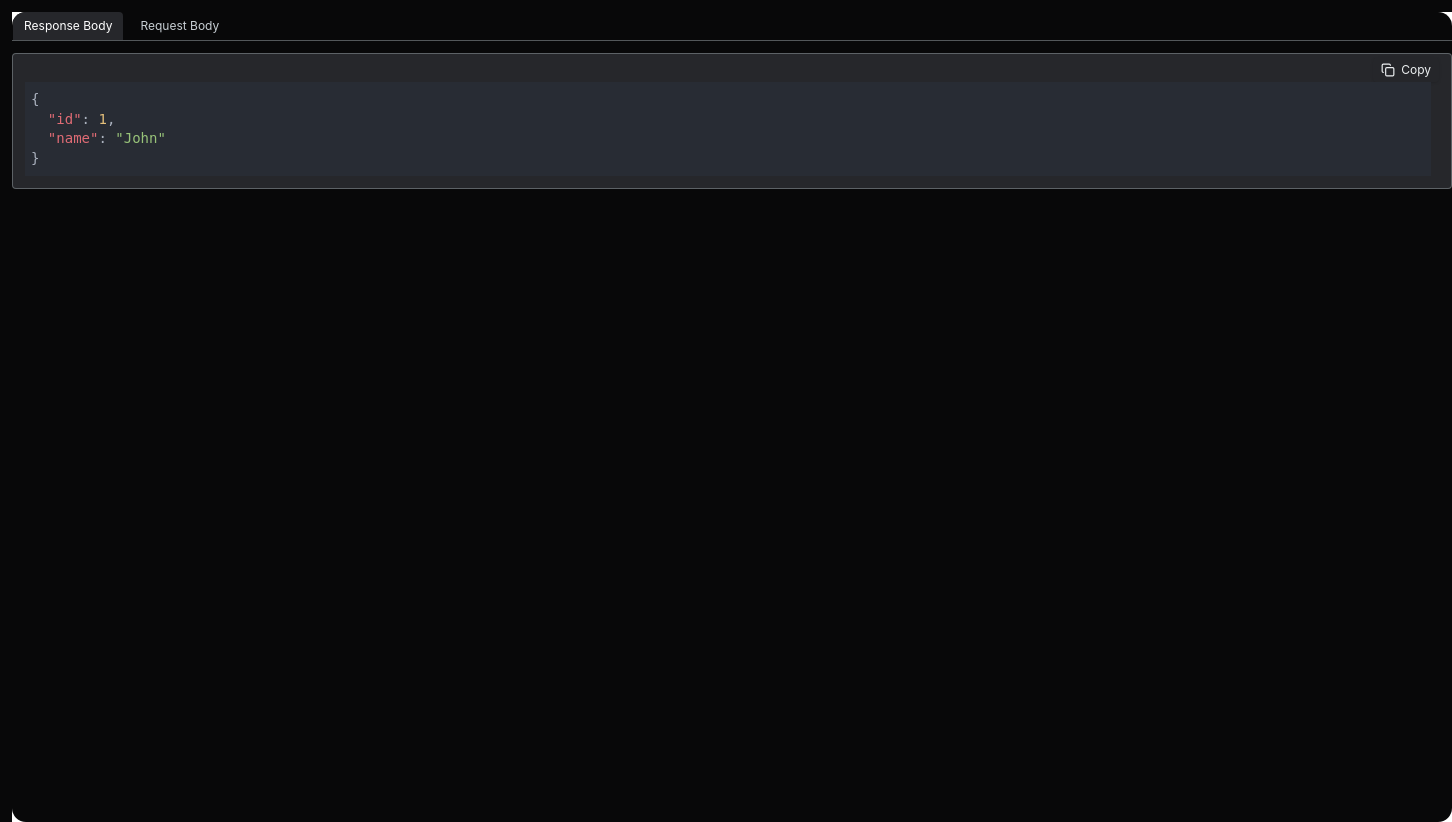
Test: ResponsePanel › shows empty state for null request body
Click the tab "Request Body" at (180, 26), box [128,12,231,40]
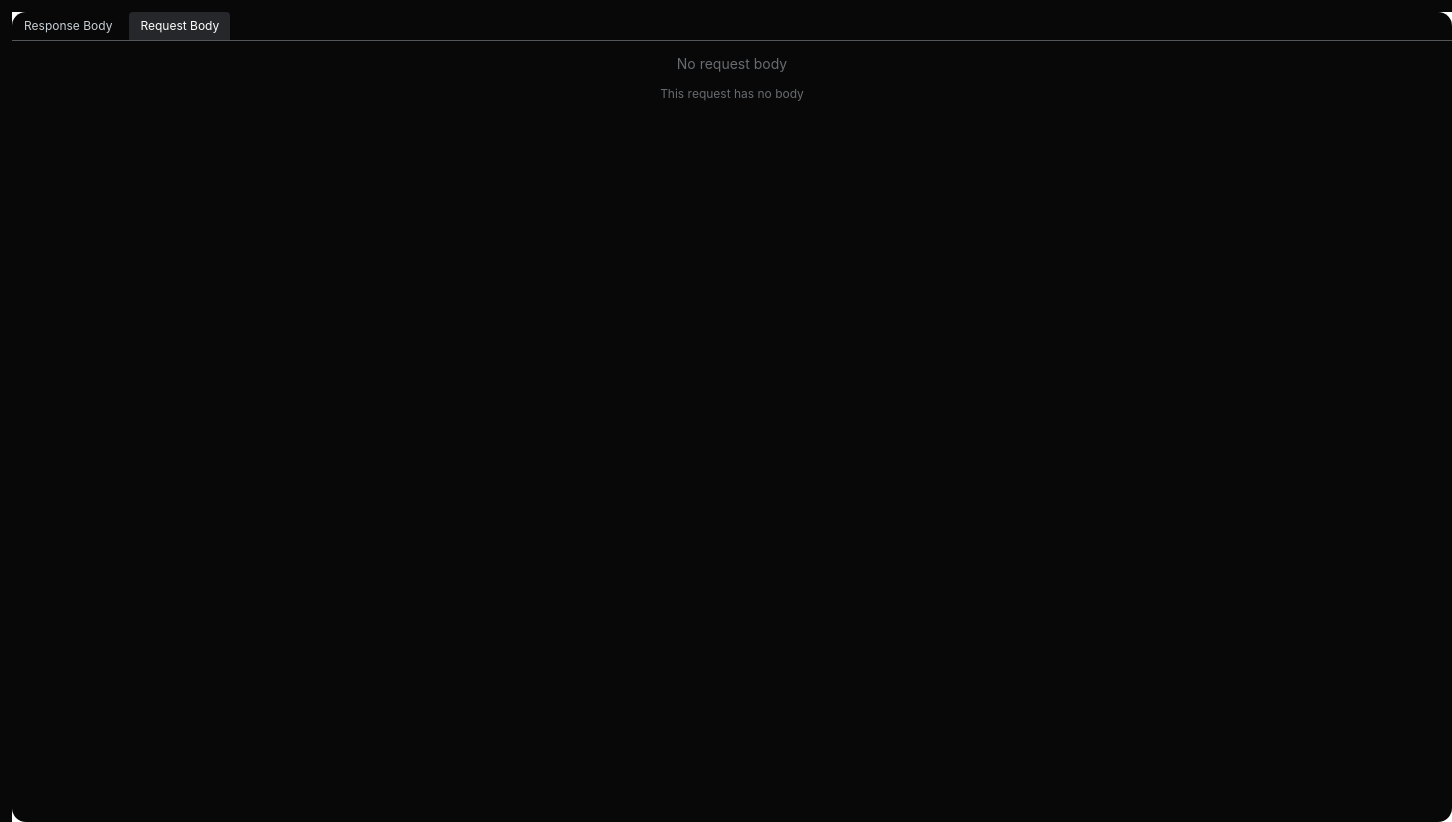
Check: the text "No request body" is shown, box [677,55,787,72]
